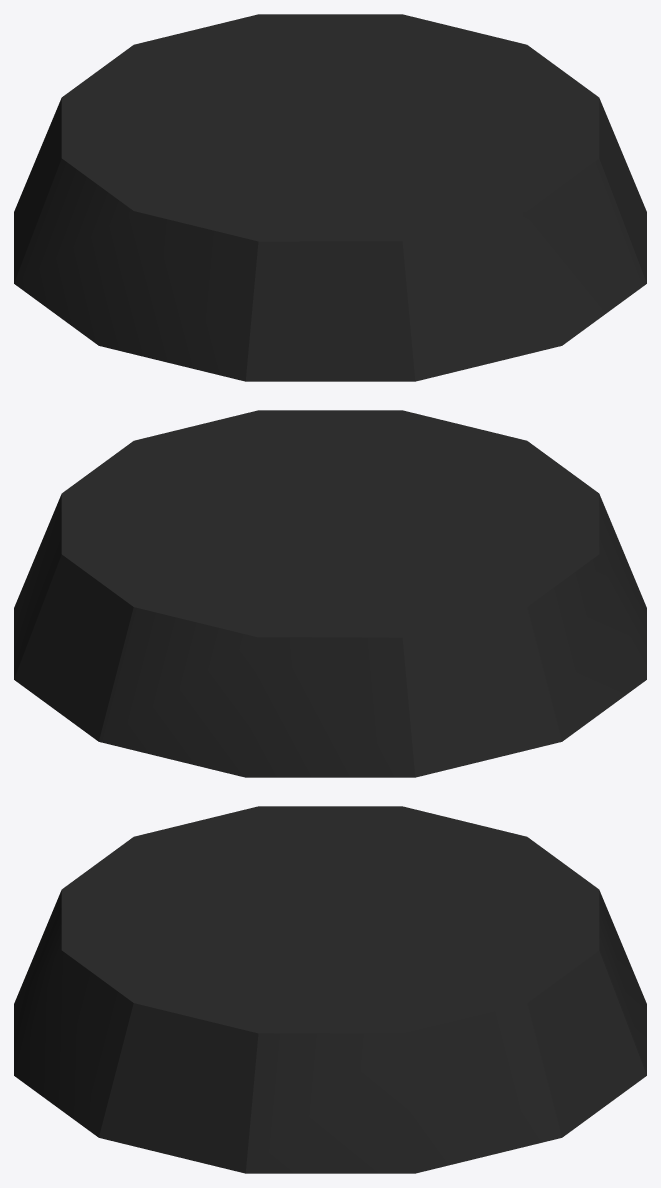
The model's file is module-draggable-02.glb.
3 renders of one model, top to bottom at view 1: azimuth 30°, elevation 25°; view 2: azimuth 150°, elevation 25°; view 3: azimuth 270°, elevation 25°, orthographic.
Parts seen in each view (by area): view 1: Mesh_0; view 2: Mesh_0; view 3: Mesh_0.
Part boxes in pixels (x1=…): Mesh_0: x1=14, y1=14, x2=646, y2=381; Mesh_0: x1=14, y1=410, x2=646, y2=777; Mesh_0: x1=14, y1=806, x2=646, y2=1173.
Size of the model in its own units: 0.2969 by 0.081 by 0.2969.
1 material, 1 textured.
